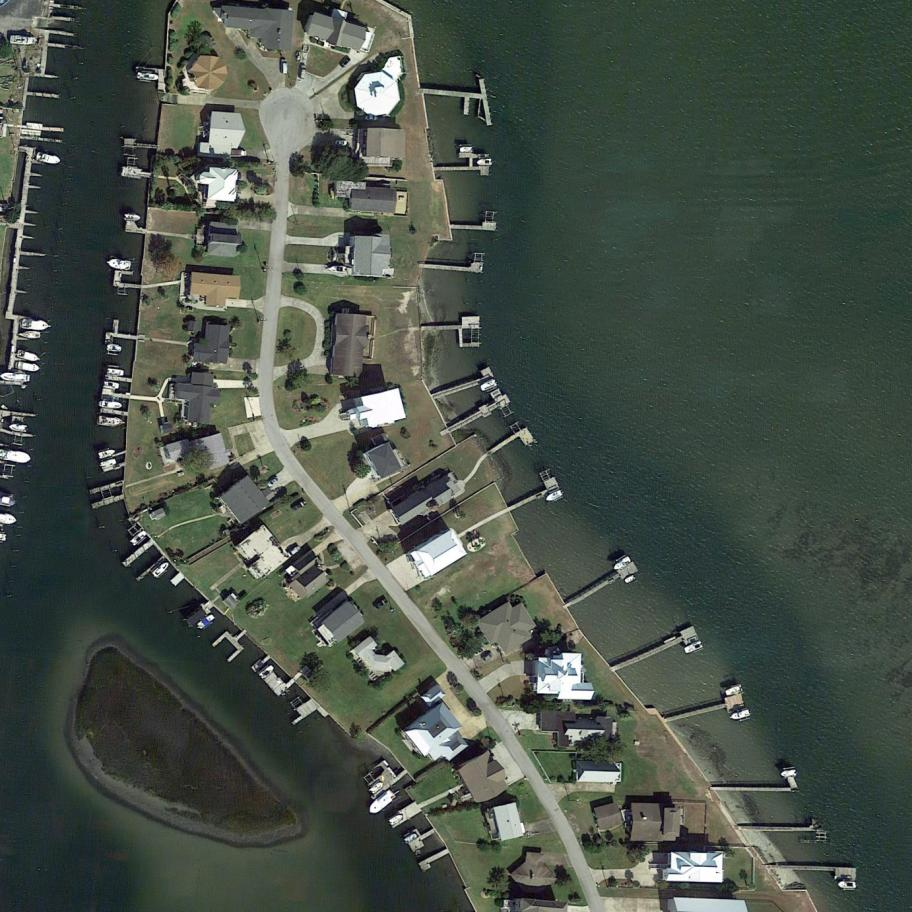ship: (363, 787, 399, 820), (35, 149, 63, 168), (19, 318, 52, 332), (96, 415, 126, 429), (16, 349, 42, 364), (0, 371, 32, 383), (151, 561, 171, 580), (612, 555, 633, 573), (14, 360, 41, 374), (683, 640, 705, 657), (11, 33, 39, 46), (197, 613, 216, 632), (106, 257, 131, 270), (130, 529, 148, 547), (728, 709, 751, 723), (478, 378, 498, 394), (544, 489, 565, 504), (257, 663, 275, 680), (367, 780, 385, 797), (98, 456, 117, 470), (136, 71, 160, 82), (8, 421, 28, 434), (97, 447, 117, 460), (724, 686, 743, 699), (98, 400, 122, 410), (388, 813, 405, 827), (325, 265, 348, 275), (18, 330, 43, 339), (102, 381, 120, 391), (403, 833, 419, 844), (781, 769, 798, 779), (123, 213, 141, 222), (106, 343, 122, 353), (107, 368, 124, 377), (477, 158, 493, 166), (461, 145, 473, 153)
small-vehicle: (291, 499, 309, 513), (373, 597, 390, 611), (286, 544, 302, 558), (265, 475, 280, 489), (339, 56, 352, 69), (280, 58, 288, 74), (298, 64, 306, 79), (335, 139, 347, 146), (366, 115, 379, 121)
